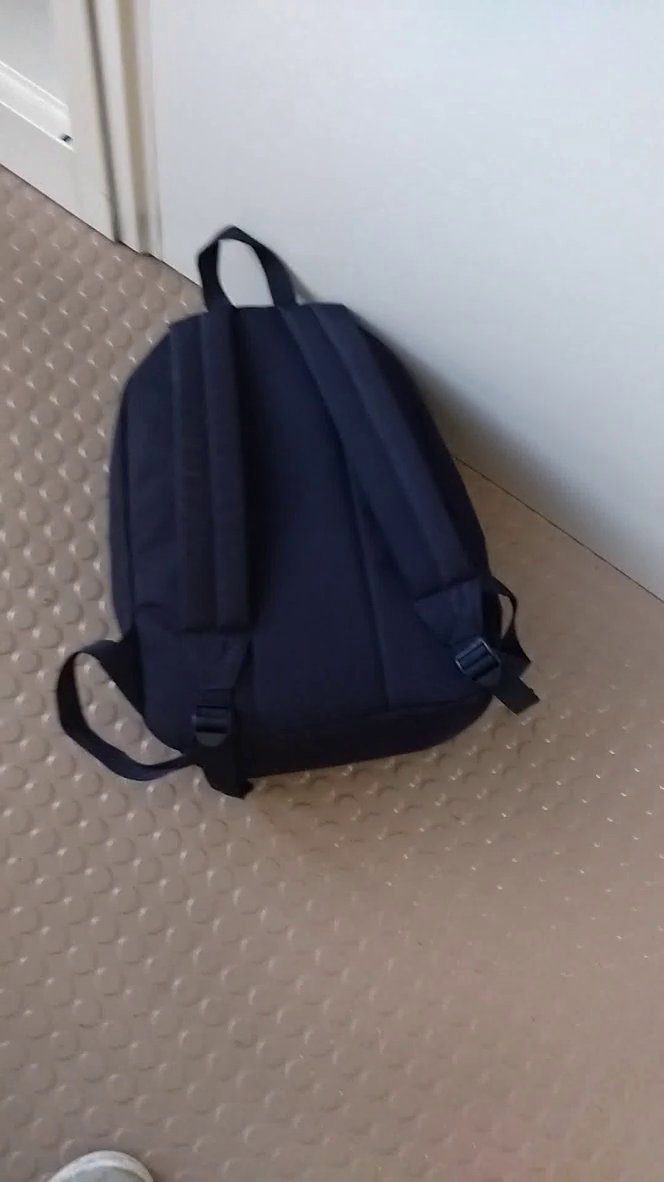bag: (38, 201, 548, 814)
